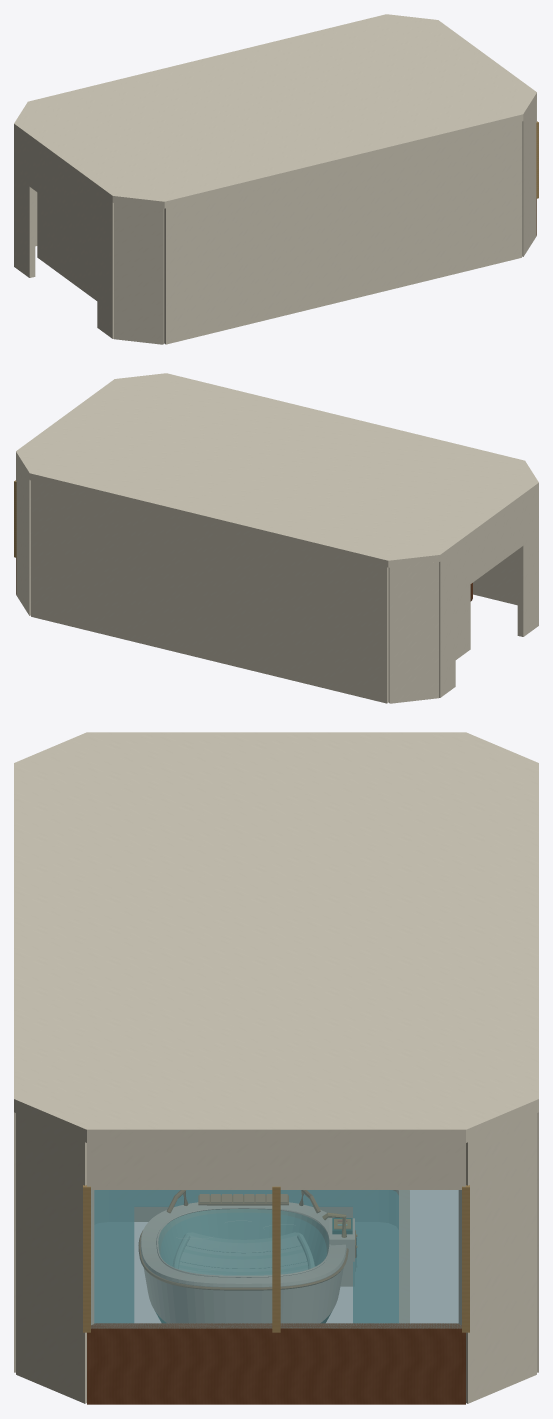
Rendered from D04_PORT_FORWARD_HOME_916_r001.glb.
3 renders of one model, top to bottom at view 1: azimuth 30°, elevation 25°; view 2: azimuth 150°, elevation 25°; view 3: azimuth 270°, elevation 25°, orthographic. The views are drawn at different scales.
Visible parts, largest first — view 1: D04H916_Roof, D04H916_Shell_3, D04H916_Shell_2, D04H916_BathDogleg, D04H916_EntryHeader, D04H916_EntryWall_0, D04H916_EntryWall_1, D04H916_Shell_4; view 2: D04H916_Roof, D04H916_Shell_7, D04H916_Shell_0, D04H916_EntryHeader, D04H916_EntryWall_1, D04H916_EntryWall_0, D04H916_Shell_6, D04H916_Shell_3, D04H916_BathDogleg; view 3: D04H916_Roof, D04H916_GardenGlass, D04H916_GardenDado, D04H916_Shell_4, D04H916_Shell_6, D04H916_GardenHead, D04H916_ReservedAquaticRest__Hollow continuous basin shell w, D04H916_Water_0, D04H916_ReservedAquaticRest__Contoured broad immersed rest s, D04H916_AquaticBasinRim, D04H916_WindowMullion_1, D04H916_WindowMullion_0 (+1 smaller).
Boxes of the visible parts, <box> form: D04H916_Roof: <box>14,14,536,208</box>; D04H916_Shell_3: <box>164,121,521,344</box>; D04H916_Shell_2: <box>114,203,164,344</box>; D04H916_BathDogleg: <box>37,192,97,300</box>; D04H916_EntryHeader: <box>29,142,97,235</box>; D04H916_EntryWall_0: <box>14,131,35,277</box>; D04H916_EntryWall_1: <box>97,192,113,338</box>; D04H916_Shell_4: <box>522,100,536,256</box>; D04H916_Roof: <box>16,373,538,567</box>; D04H916_Shell_7: <box>31,480,388,703</box>; D04H916_Shell_0: <box>388,562,438,703</box>; D04H916_EntryHeader: <box>455,501,523,594</box>; D04H916_EntryWall_1: <box>517,490,538,636</box>; D04H916_EntryWall_0: <box>439,551,455,697</box>; D04H916_Shell_6: <box>16,459,30,615</box>; D04H916_Shell_3: <box>473,550,517,605</box>; D04H916_BathDogleg: <box>455,584,470,659</box>; D04H916_Roof: <box>14,732,538,1142</box>; D04H916_GardenGlass: <box>91,1190,461,1328</box>; D04H916_GardenDado: <box>87,1323,465,1404</box>; D04H916_Shell_4: <box>16,1113,94,1403</box>; D04H916_Shell_6: <box>458,1113,536,1403</box>; D04H916_GardenHead: <box>87,1143,465,1189</box>; D04H916_ReservedAquaticRest__Hollow continuous basin shell w: <box>140,1202,346,1322</box>; D04H916_Water_0: <box>94,1190,398,1322</box>; D04H916_ReservedAquaticRest__Contoured broad immersed rest s: <box>179,1232,307,1275</box>; D04H916_AquaticBasinRim: <box>134,1190,409,1322</box>; D04H916_WindowMullion_1: <box>272,1186,280,1332</box>; D04H916_WindowMullion_0: <box>462,1185,469,1332</box>.
Size of the model in its own units: 12.93 by 4.16 by 7.2.
39 materials, 20 textured.
